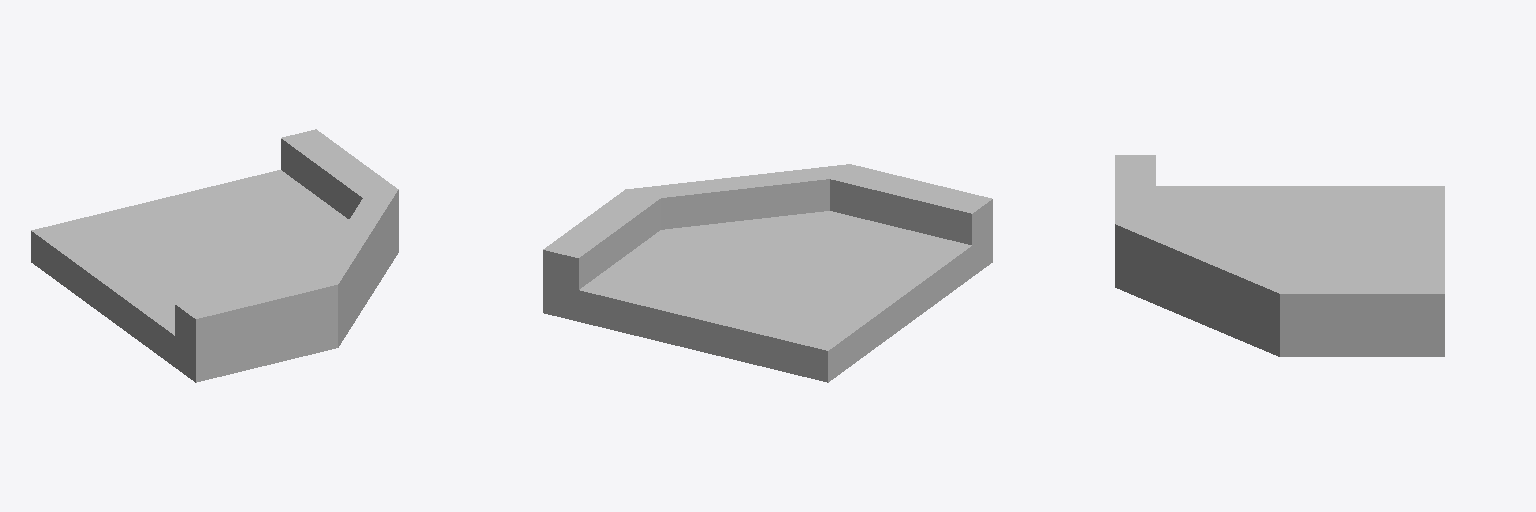
Rendered from roof-flat-border-corner-slanted.obj.
3 renders of one model, left to right at view 1: azimuth 30°, elevation 25°; view 2: azimuth 150°, elevation 25°; view 3: azimuth 270°, elevation 25°, orthographic.
Parts seen in each view (by area): view 1: roof-flat-border-corner-slanted; view 2: roof-flat-border-corner-slanted; view 3: roof-flat-border-corner-slanted.
Boxes of the visible parts, <box> form: roof-flat-border-corner-slanted: <box>31,129,398,382</box>; roof-flat-border-corner-slanted: <box>543,164,992,382</box>; roof-flat-border-corner-slanted: <box>1115,155,1444,356</box>.
Size of the model in its own units: 1 by 0.2125 by 1.